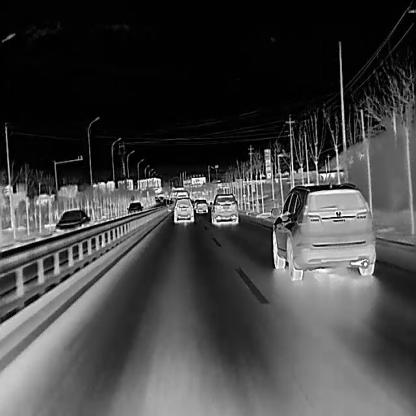car: (271, 178, 376, 280), (52, 207, 90, 241), (209, 192, 238, 225), (172, 196, 193, 223), (126, 200, 142, 218), (195, 200, 207, 213)
